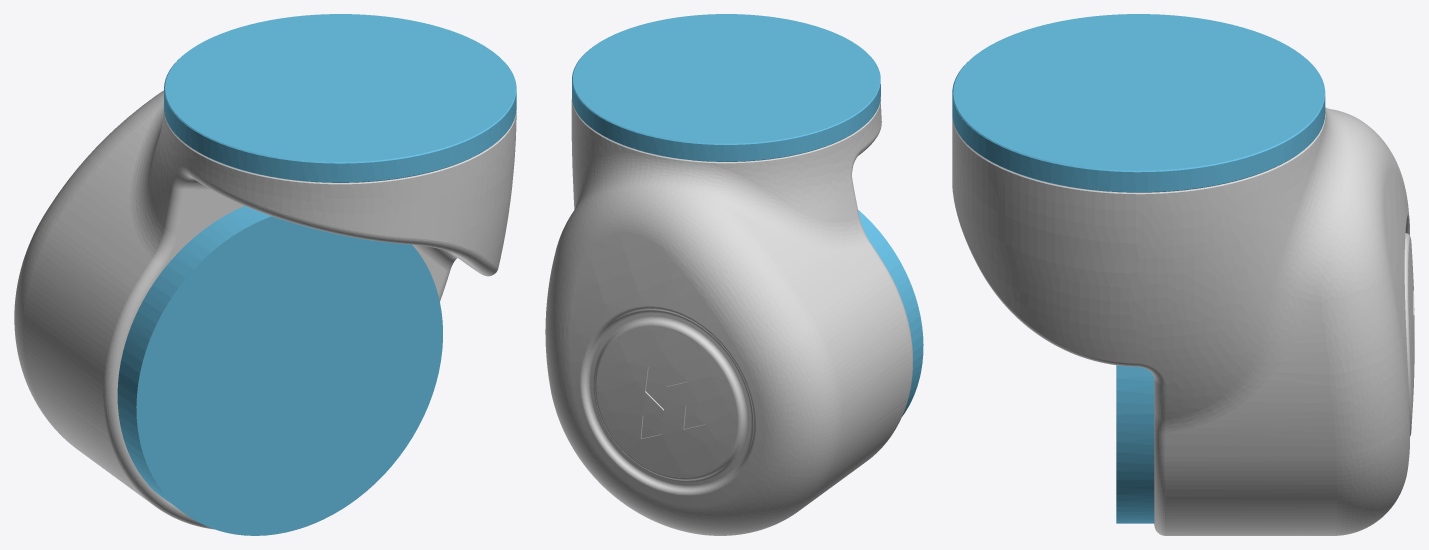
The picture shows the model from 3 angles, left to right: view 1: azimuth 30°, elevation 25°; view 2: azimuth 150°, elevation 25°; view 3: azimuth 270°, elevation 25°; orthographic projection. The views are drawn at different scales.
Visible parts, largest first — view 1: Untitled_006; view 2: Untitled_006; view 3: Untitled_006.
Boxes of the visible parts, <box> form: Untitled_006: <box>14,14,516,535</box>; Untitled_006: <box>545,14,923,535</box>; Untitled_006: <box>952,14,1414,535</box>.
Bounding box in the file's own units: 0.1235 × 0.124 × 0.135.
